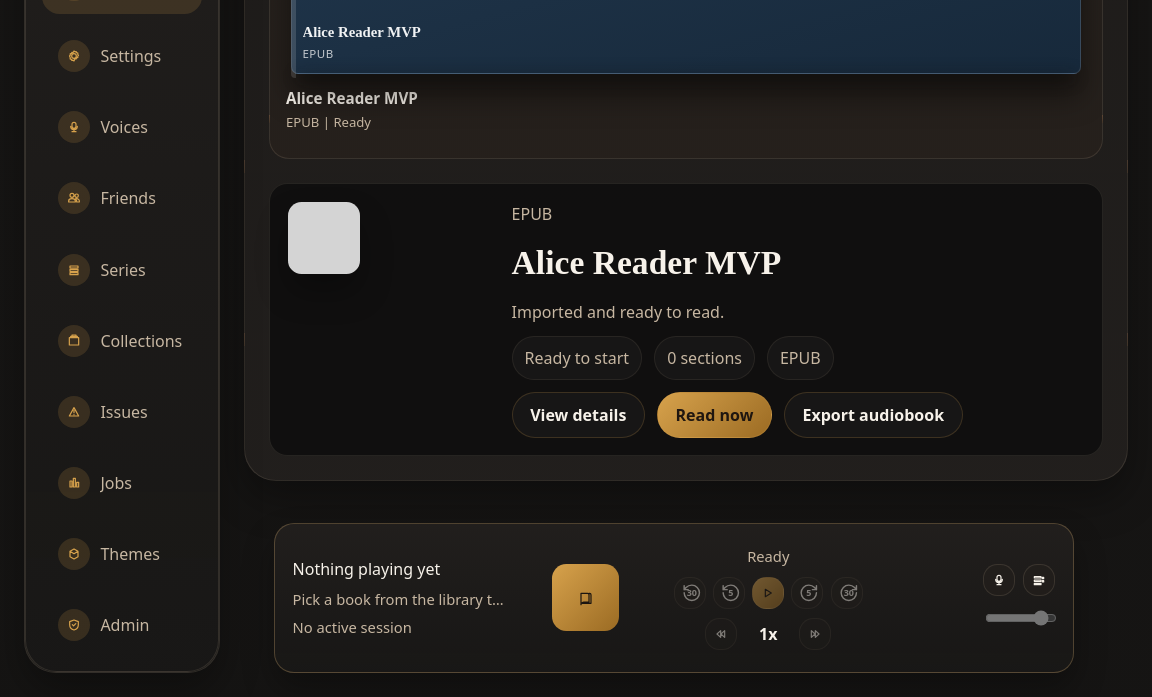
Scenario: LibraryPage › shows the backend error when starting reading fails
(page scrolled)
Step 1. Click the button "Read now" → (714, 415), box [657,392,772,438]
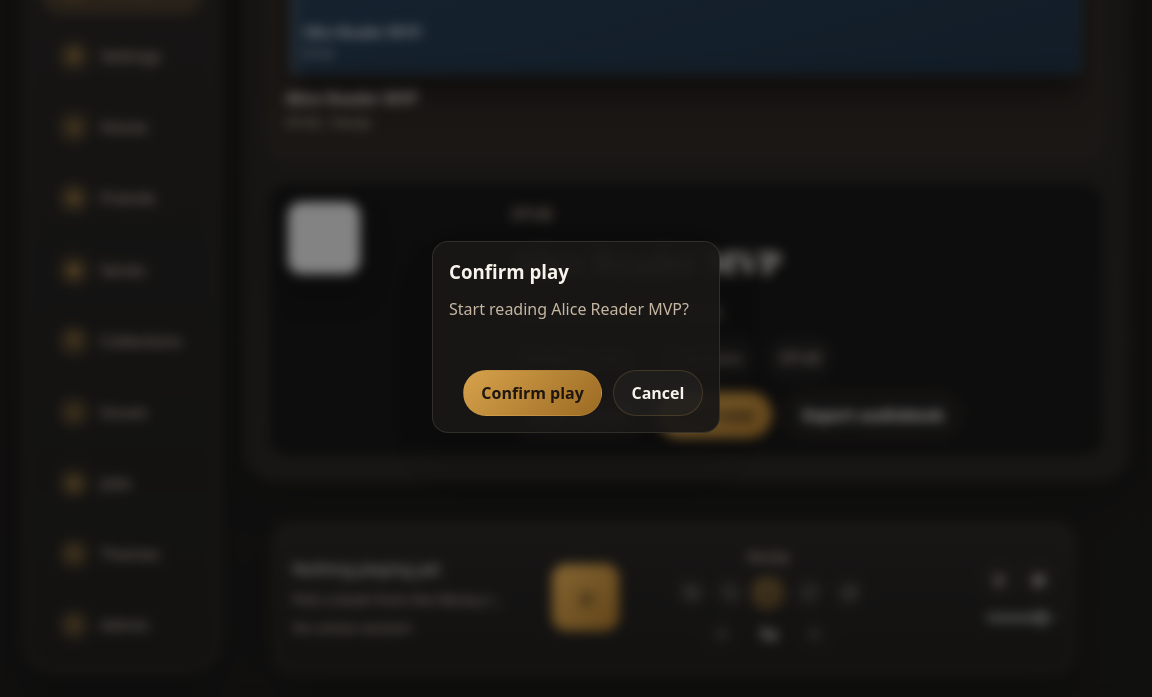
Step 2. Click the button "Confirm play" → (533, 393), box [463,370,602,416]
(page scrolled)
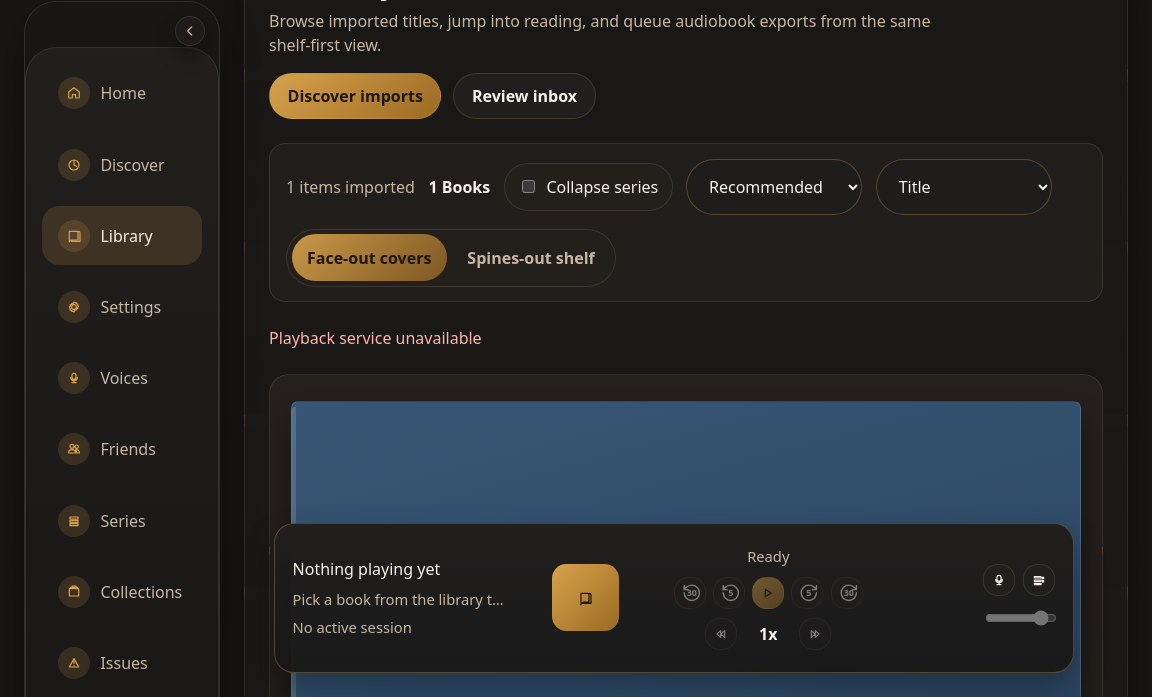
Expected: the message reads "Playback service unavailable", [269,327,482,349]
